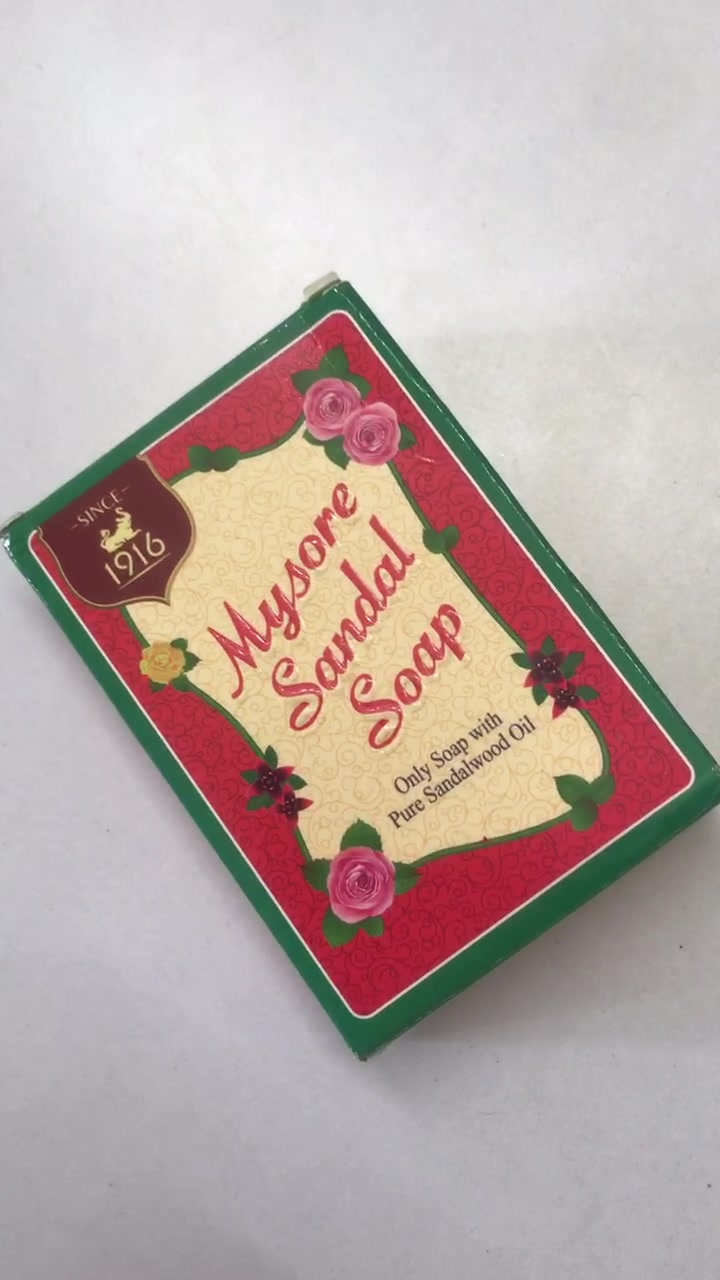mysore sandal soap: (5, 291, 720, 1067)
